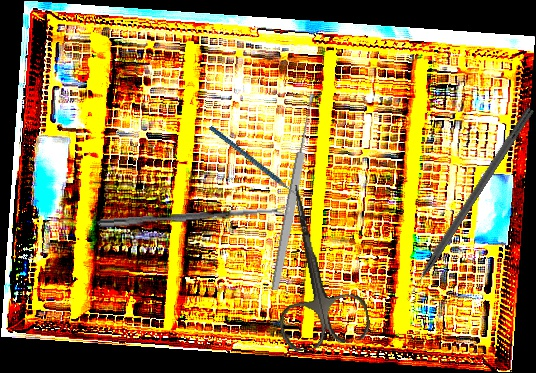Chopper: (208, 101, 310, 223)
Hook Surgical: (401, 105, 534, 302)
Iris Scissors: (254, 176, 373, 354)
Surgical Spoon: (269, 92, 319, 292), (95, 206, 291, 229)
